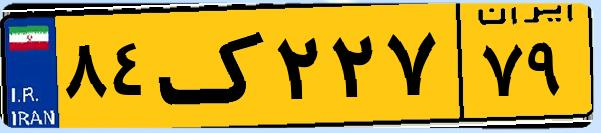2: (270, 28, 330, 110), (330, 28, 385, 110)
4: (110, 28, 158, 98)
7: (385, 28, 445, 110), (475, 38, 525, 113)
8: (57, 26, 110, 100)
9: (525, 38, 570, 115)
ک: (158, 12, 270, 120)
